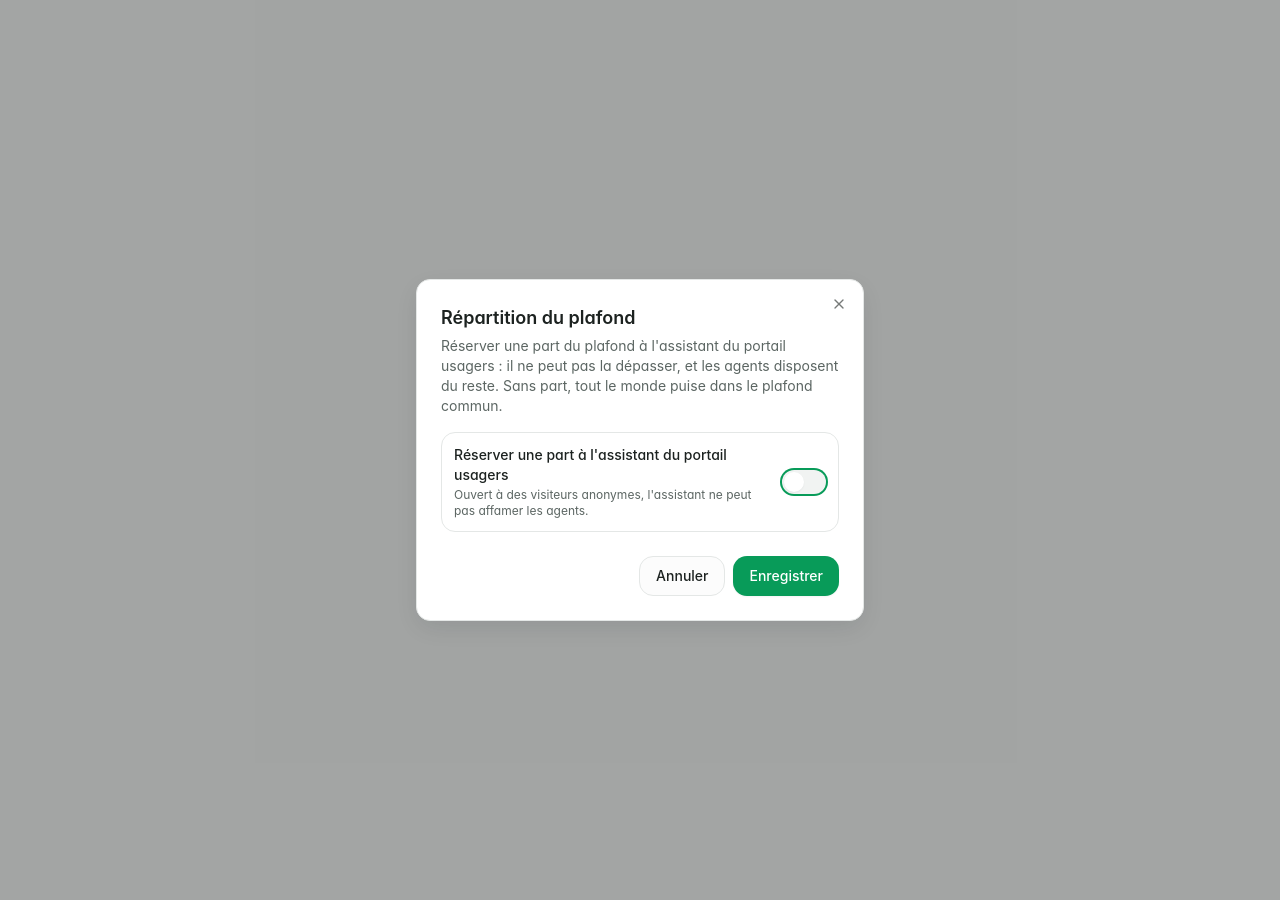
AiShareDialog — la répartition du plafond › dit qu'un pourcentage sans plafond est sans effet, et qu'une part en jetons peut tout prendre
Click the switch named "Réserver une part à l'assistant du portail usagers".
click(804, 482)  # box [782, 470, 826, 494]
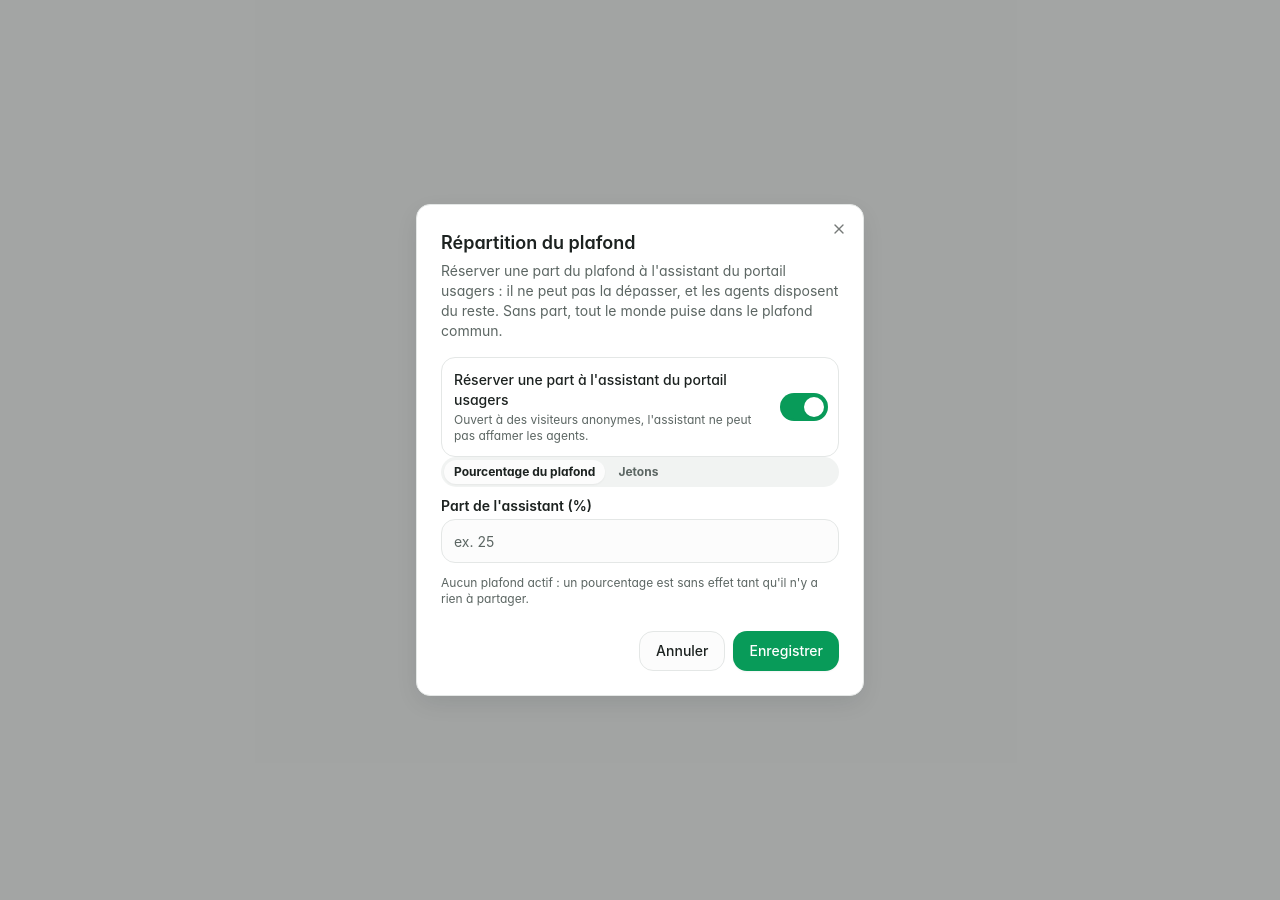
Check: the text with test id "share-preview" shows "sans effet", box [441, 575, 818, 606]
Click the tab "Jetons".
click(638, 472)  # box [608, 460, 668, 484]
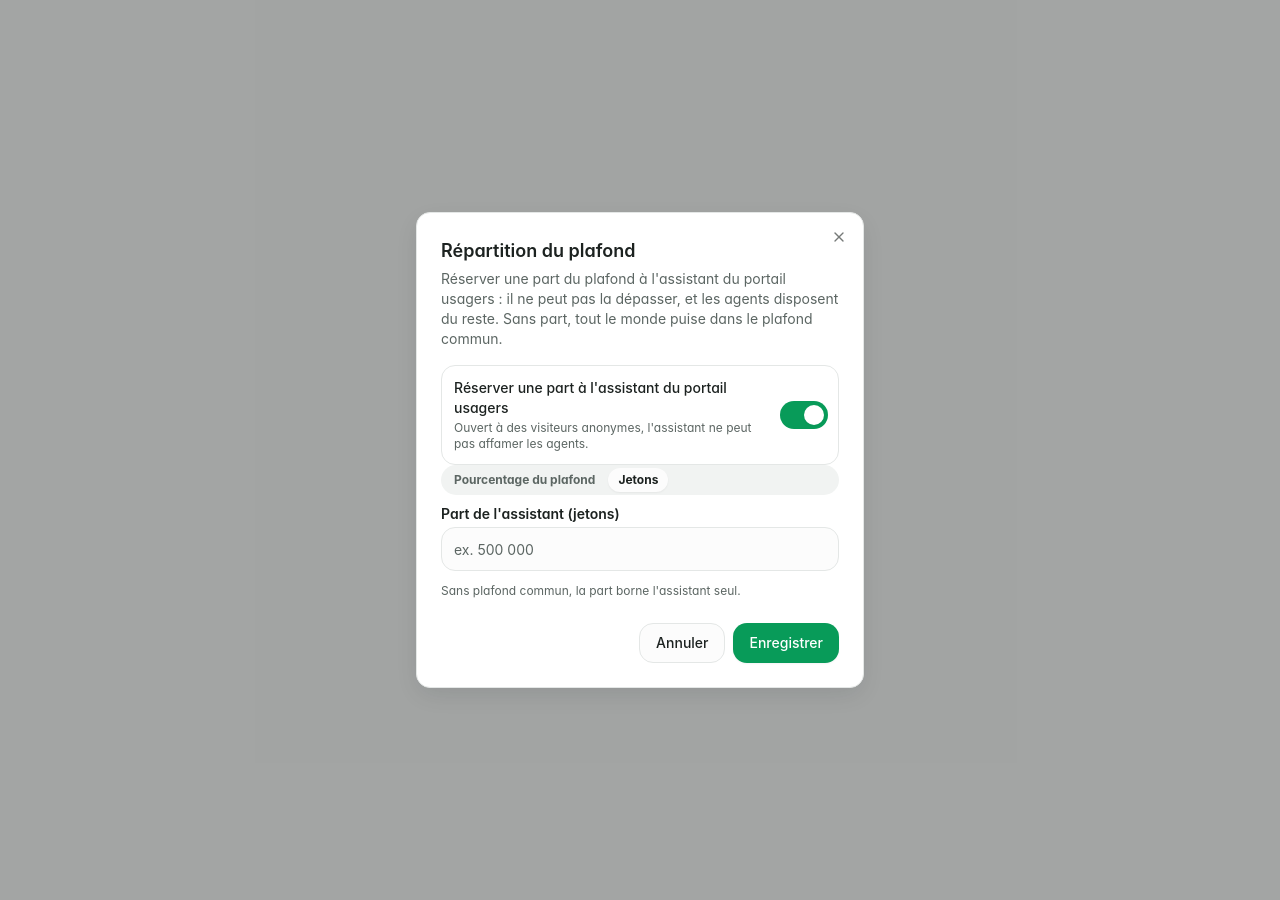
Type "300000" into the field labelled "Part de l'assistant (jetons)".
click(640, 549); type("300000")  # box [441, 527, 839, 571]
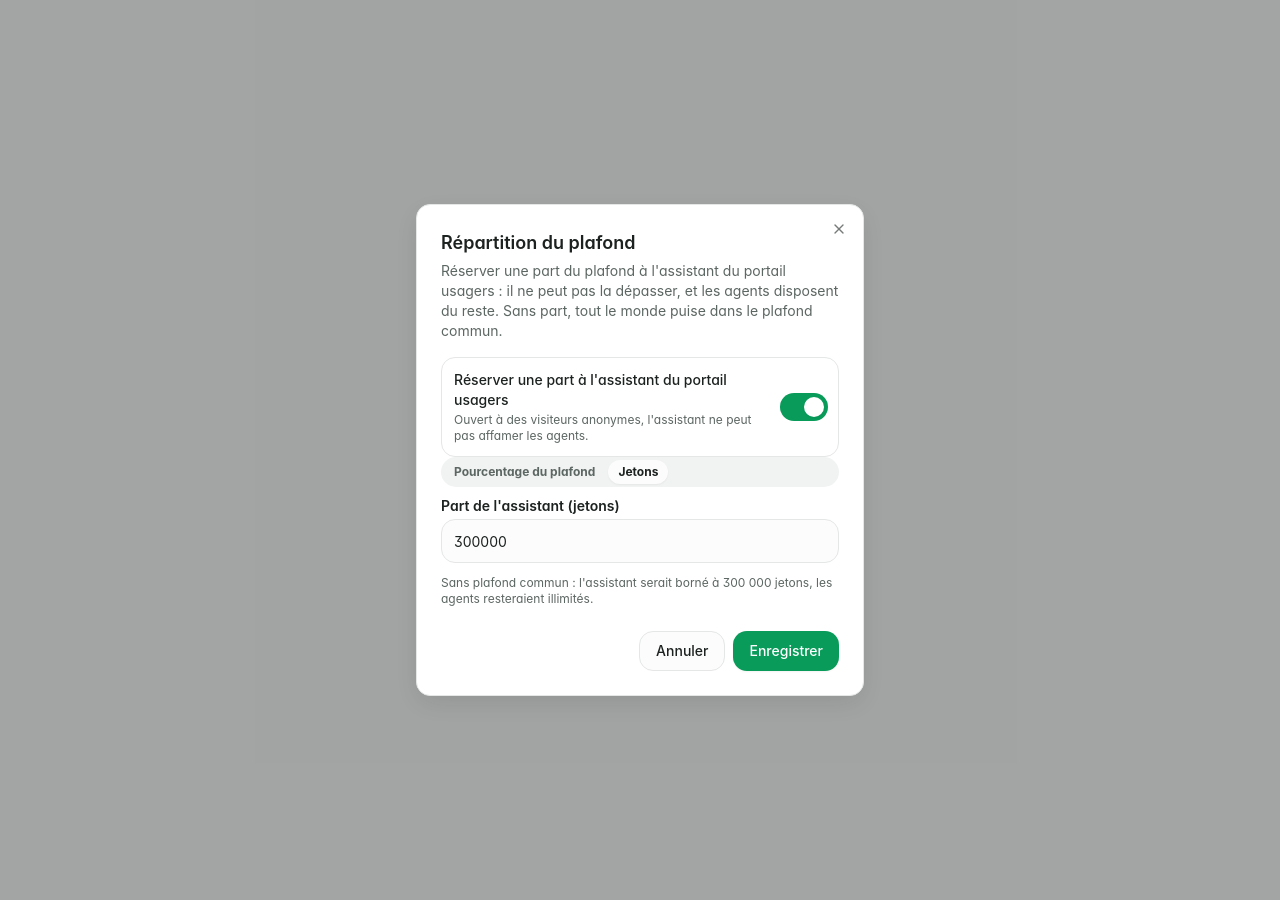
Check: the text with test id "share-preview" shows "agents resteraient illimités", box [441, 575, 832, 606]
